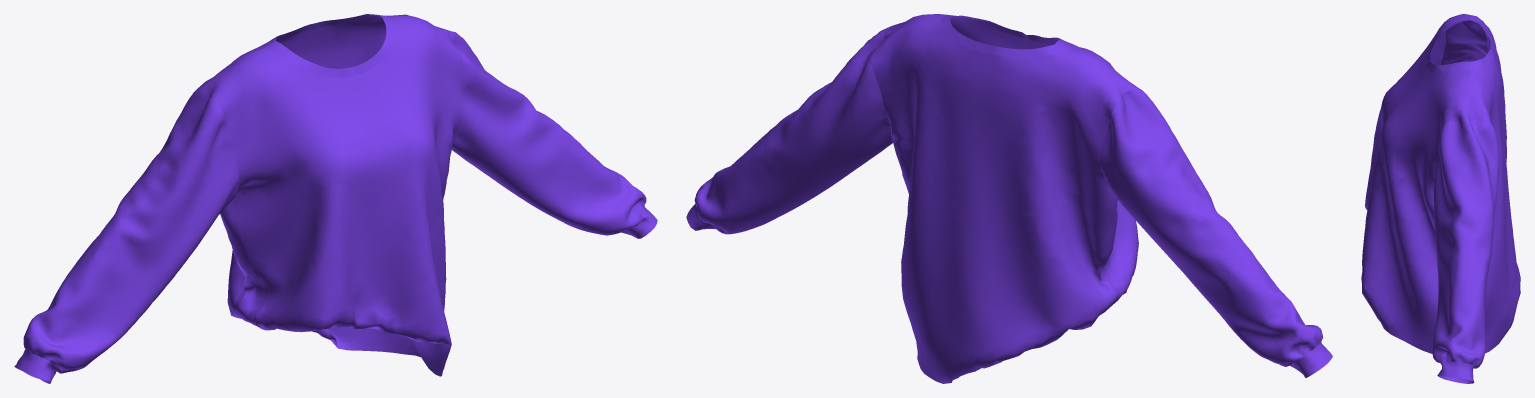
Rendered from simple_womens_shirt.glb.
The picture shows the model from 3 angles, left to right: view 1: azimuth 30°, elevation 25°; view 2: azimuth 150°, elevation 25°; view 3: azimuth 270°, elevation 25°; orthographic projection. The views are drawn at different scales.
Parts seen in each view (by area): view 1: conj fem; view 2: conj fem; view 3: conj fem.
Boxes of the visible parts, x1,y1,x2,y2 form: conj fem: (14, 14, 657, 383); conj fem: (686, 14, 1332, 383); conj fem: (1361, 14, 1520, 383).
Size of the model in its own units: 1.24 by 0.6542 by 0.3325.
